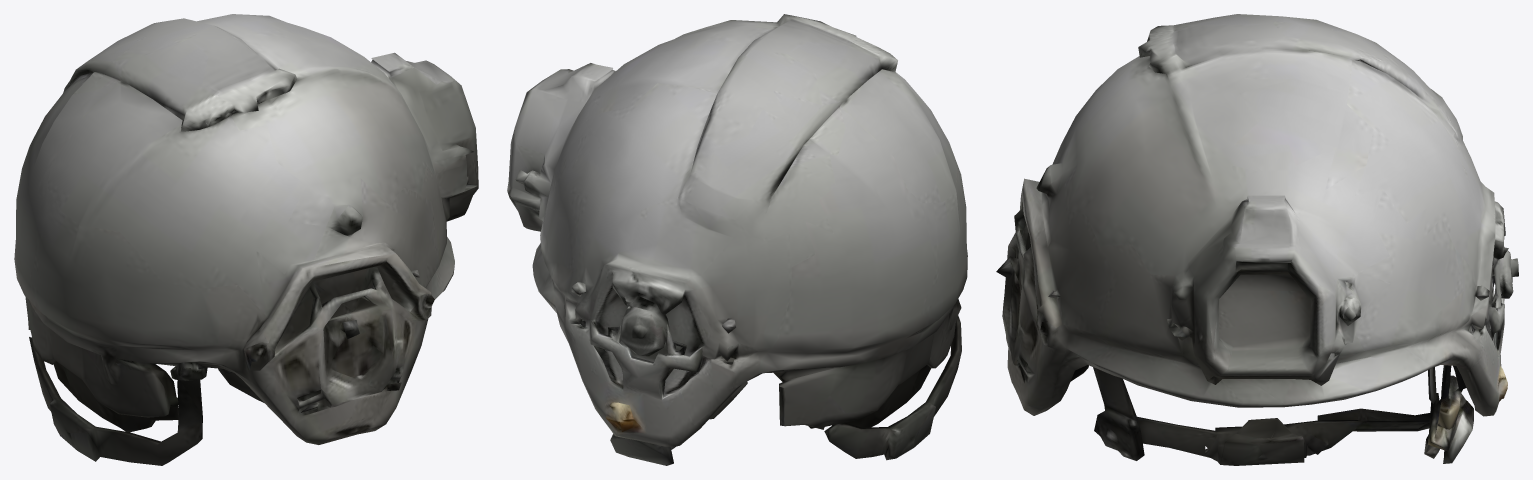
File: helmet_m.glb
3 views of the same model, side by side, from view 1: azimuth 30°, elevation 25°; view 2: azimuth 150°, elevation 25°; view 3: azimuth 270°, elevation 25° (orthographic). The views are drawn at different scales.
Parts seen in each view (by area): view 1: tripo_node_d769d849-cebe-4de0-8a95-ea80cf298a04; view 2: tripo_node_d769d849-cebe-4de0-8a95-ea80cf298a04; view 3: tripo_node_d769d849-cebe-4de0-8a95-ea80cf298a04.
Part boxes in pixels (x1=…): tripo_node_d769d849-cebe-4de0-8a95-ea80cf298a04: x1=14, y1=14, x2=478, y2=465; tripo_node_d769d849-cebe-4de0-8a95-ea80cf298a04: x1=507, y1=14, x2=967, y2=465; tripo_node_d769d849-cebe-4de0-8a95-ea80cf298a04: x1=996, y1=14, x2=1518, y2=465.
Bounding box in the file's own units: 0.96 × 0.8398 × 0.9793.
Materials: 1 (1 with a texture image).
